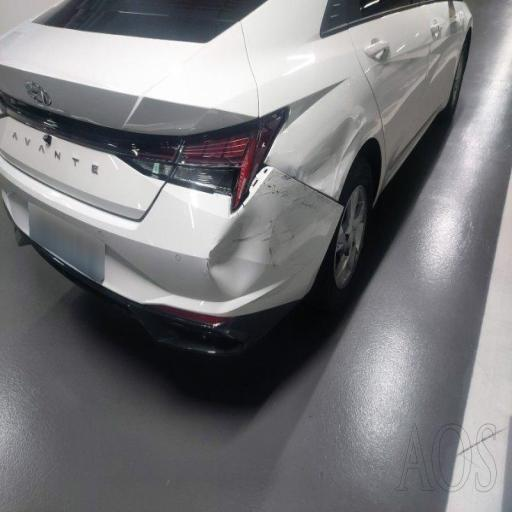dent: (102, 32, 266, 156)
scratch: (317, 23, 474, 125), (236, 187, 332, 265)
